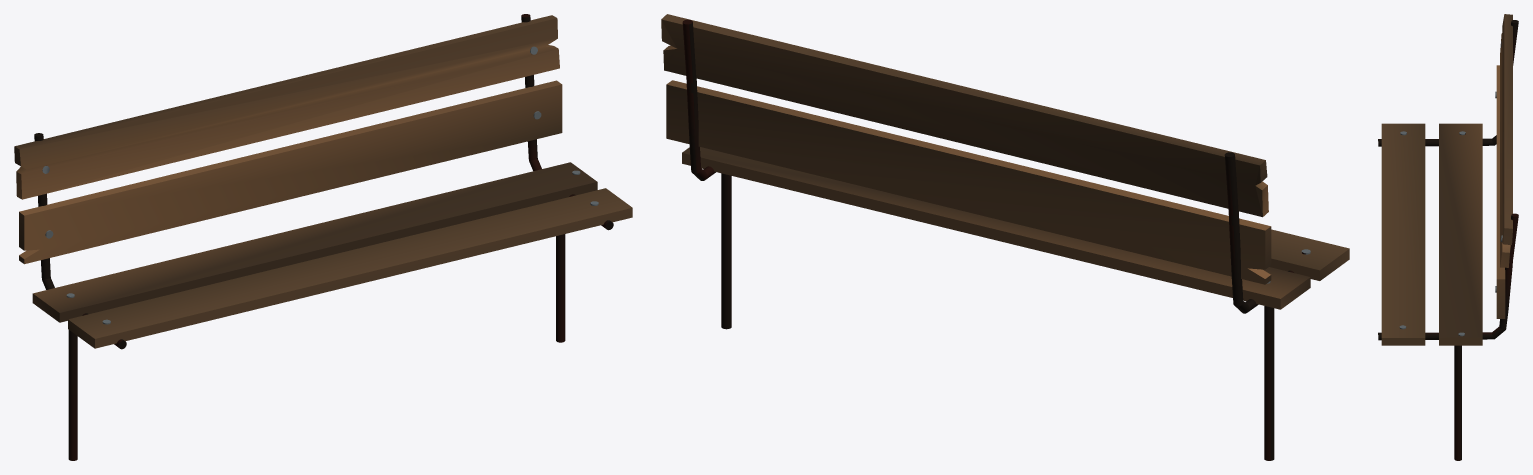
The model's file is MS_Bench.fbx.
The picture shows the model from 3 angles, left to right: view 1: azimuth 30°, elevation 25°; view 2: azimuth 150°, elevation 25°; view 3: azimuth 270°, elevation 25°; orthographic projection. The views are drawn at different scales.
Visible parts, largest first — view 1: MS_Bench; view 2: MS_Bench; view 3: MS_Bench.
Part boxes in pixels (x1=…): MS_Bench: x1=14, y1=14, x2=632, y2=460; MS_Bench: x1=661, y1=14, x2=1349, y2=460; MS_Bench: x1=1378, y1=14, x2=1518, y2=460.
Size of the model in its own units: 174 by 92.41 by 48.21.
